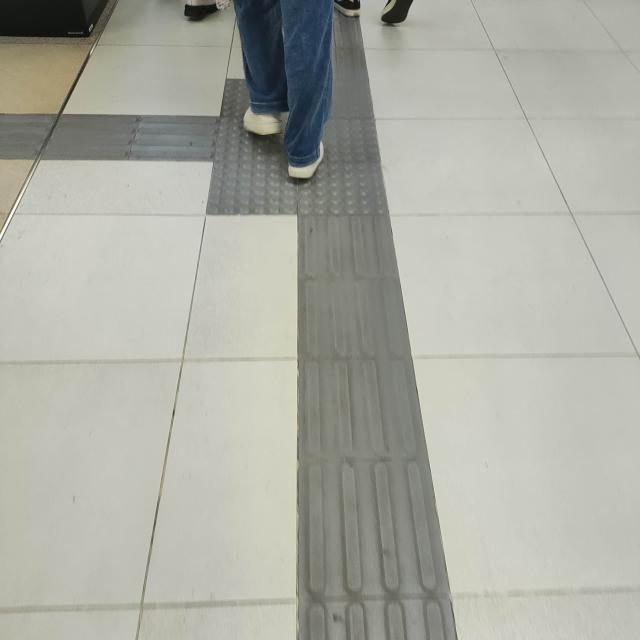lurus: (290, 223, 450, 640)
